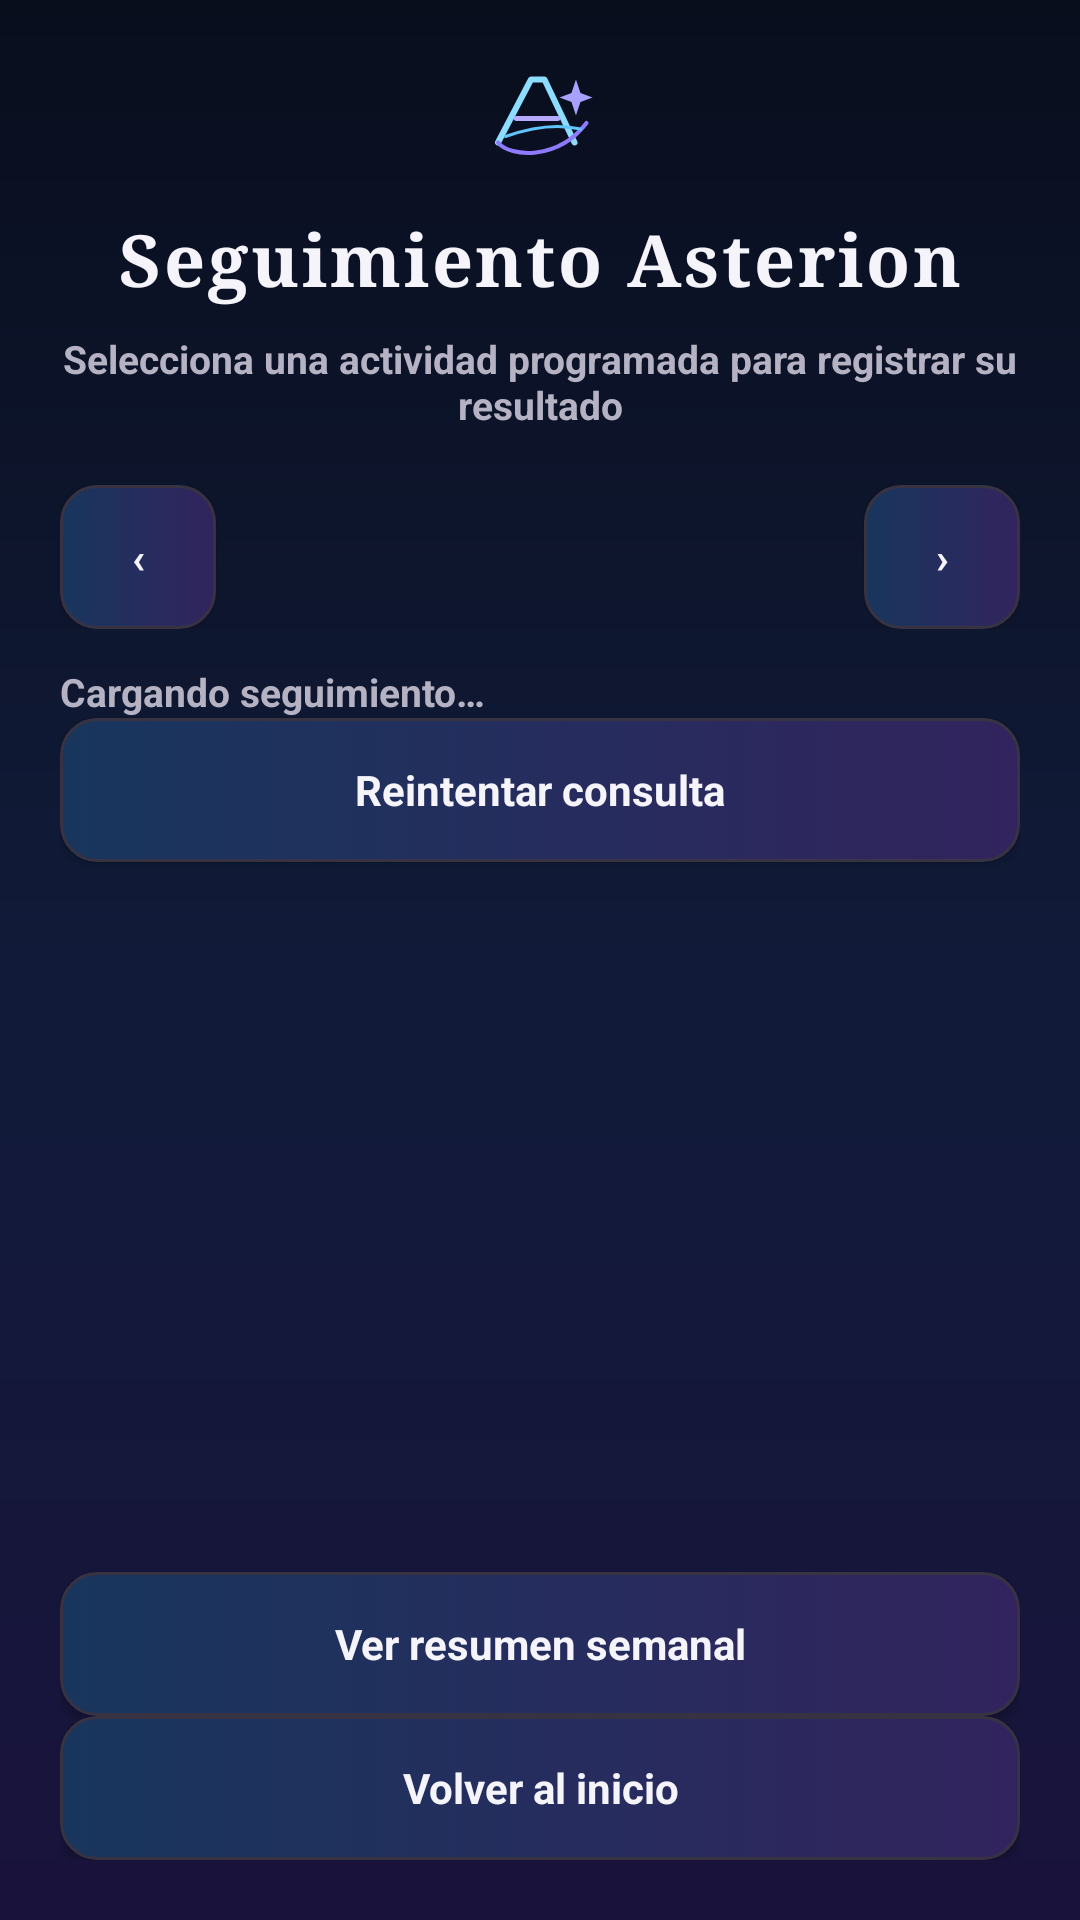

Named icons in this screenshot (1080×1920) and their bounding boxes, (x1, y1, x2, y2):
asterion crest: (495, 76, 593, 155)
